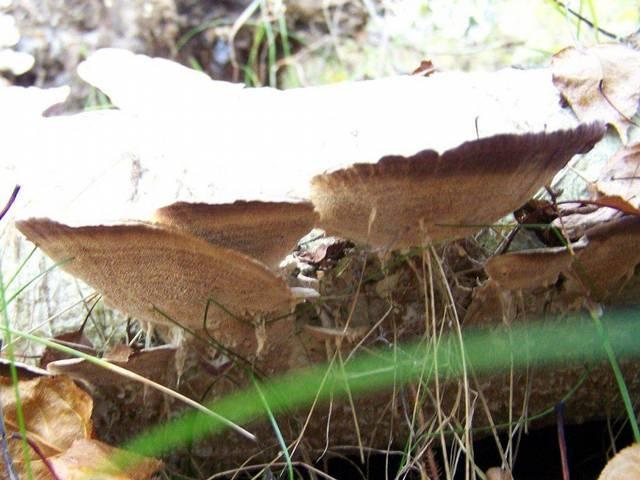Non-edible Mushroom: (15, 115, 637, 342)
